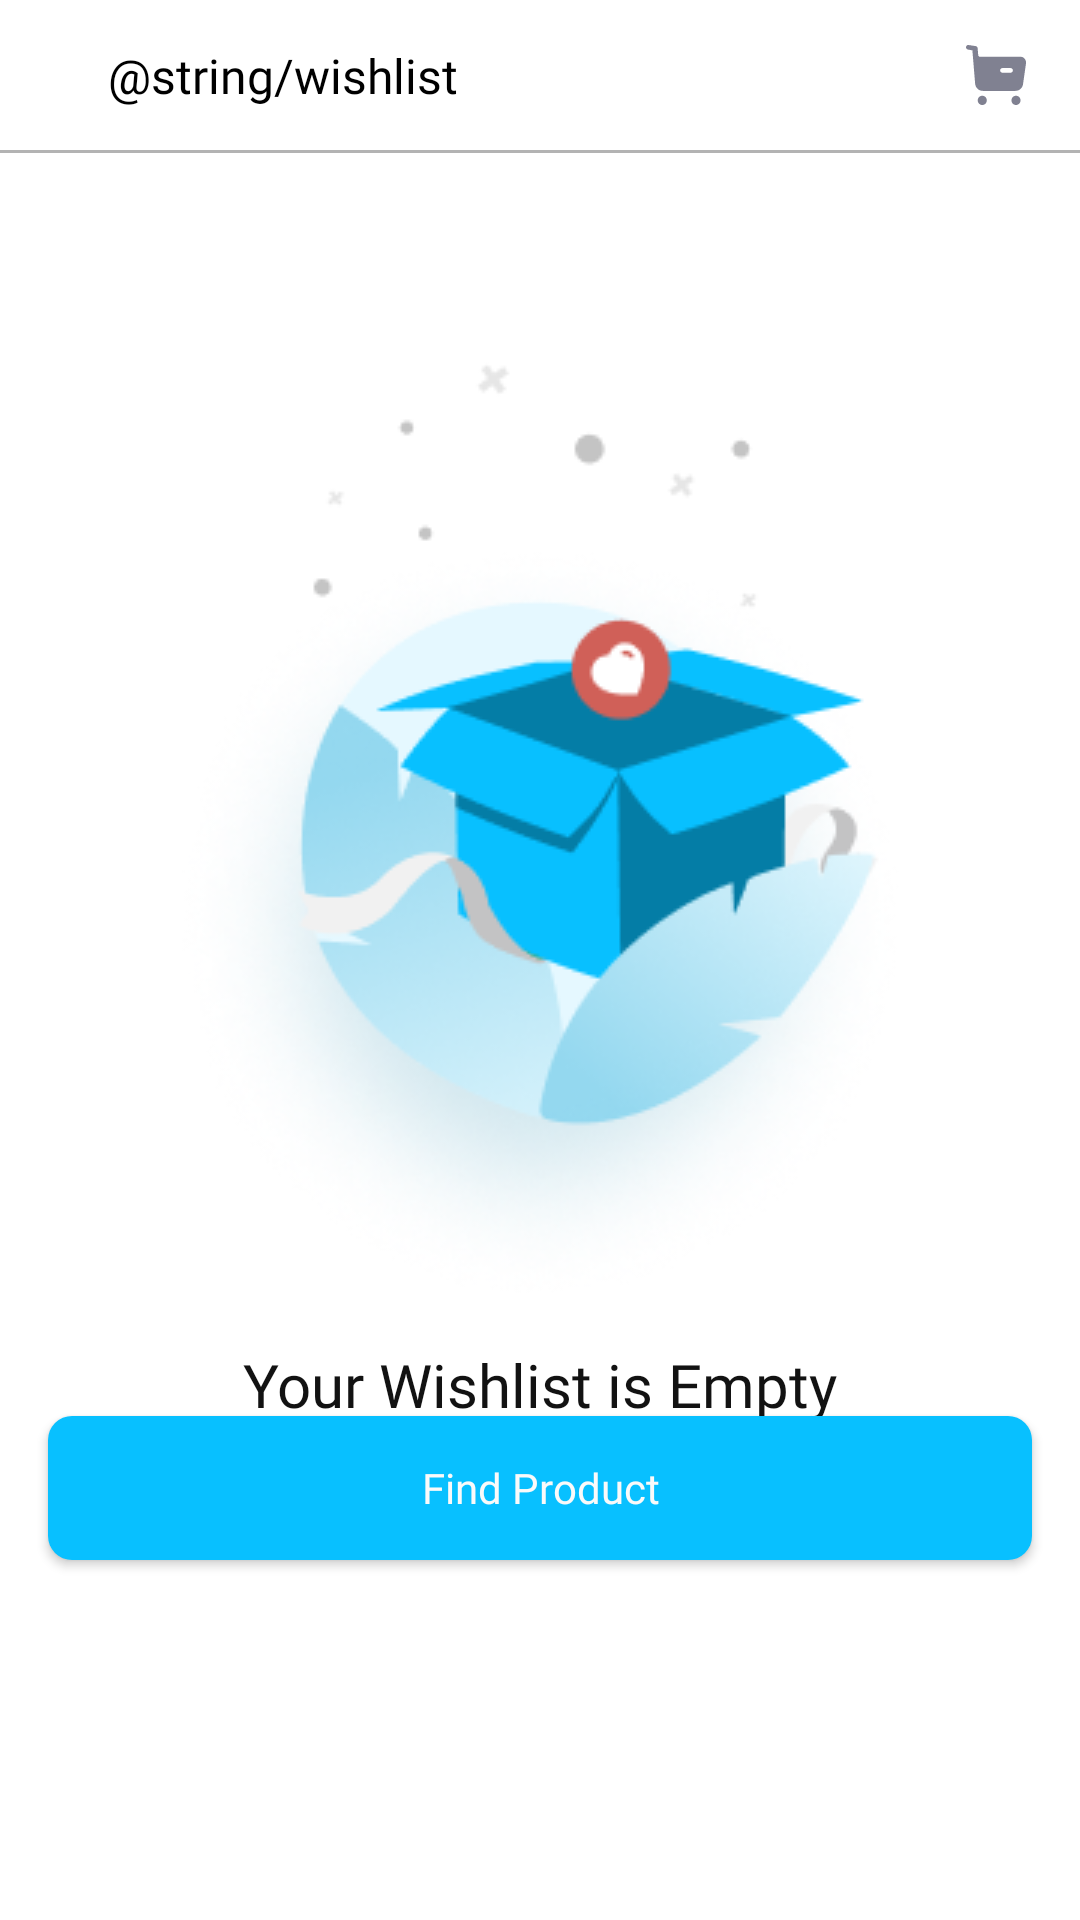

Icons on this 1080 x 1920 Android screen, each with the point to tap as [x,y]:
buy: [996,75]
